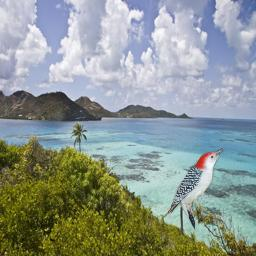Woodpecker: (162, 148, 226, 232)
